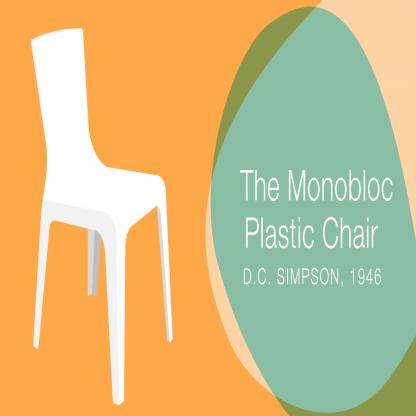chair: (30, 22, 178, 413)
